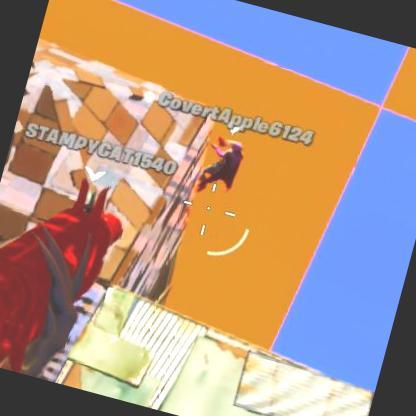person: (206, 133, 247, 204)
